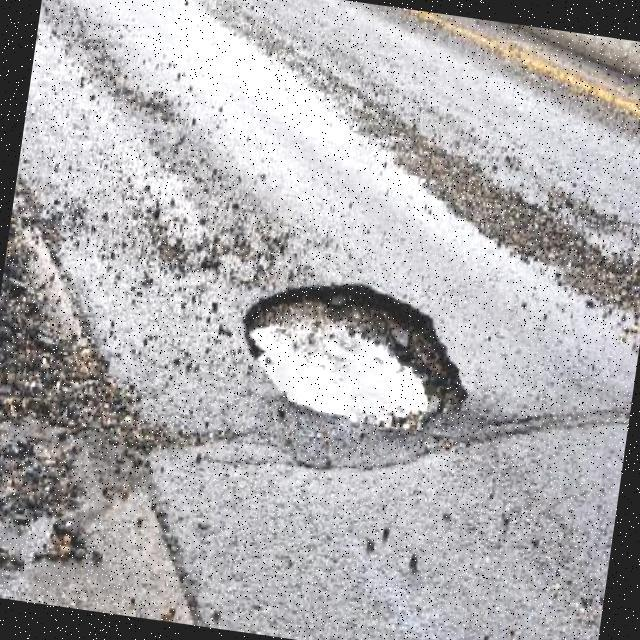Pothole: (243, 286, 469, 430)
